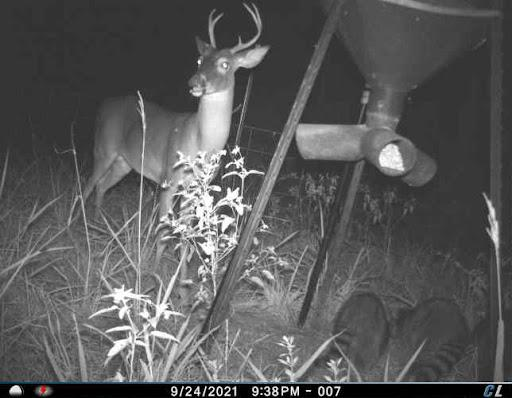Deer: (65, 1, 273, 283)
